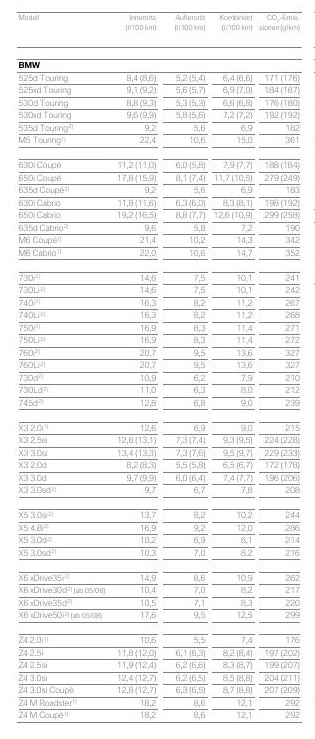table: (0, 0, 315, 739)
